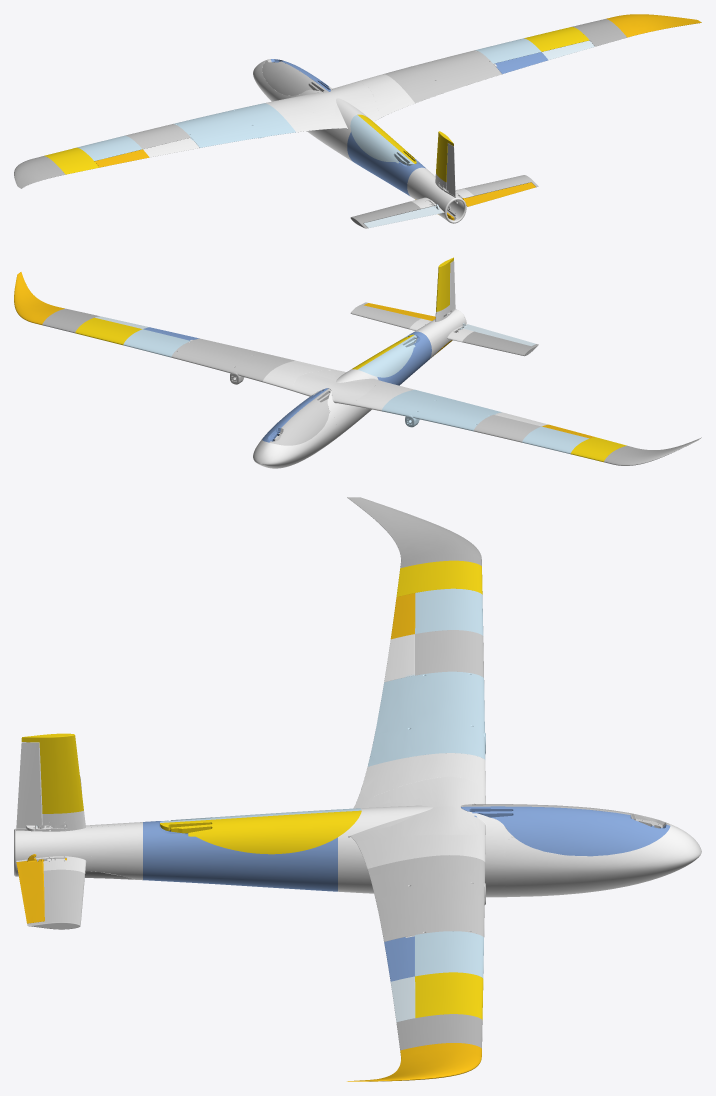
File: orca_v2.glb
3 renders of one model, top to bottom at view 1: azimuth 30°, elevation 25°; view 2: azimuth 150°, elevation 25°; view 3: azimuth 270°, elevation 25°, orthographic. The views are drawn at different scales.
Parts seen in each view (by area): view 1: wing_fuselage, port_1_2, starboard_1_2, port_4 (×2), tail_sloted_SSB (×2), starboard_4 (×2), port_3 (×2), starboard_3 (×2), aft_fuselage, mid_cover_1, front_cover2, starboard_aileron (×2) (+9 smaller); view 2: wing_fuselage, port_1_2, starboard_1_2, port_3 (×2), starboard_3 (×2), port_4 (×2), nose_fuselage, starboard_4 (×2), front_cover2, tail_sloted_SSB (×2), mid_cover_1, aft_fuselage (+6 smaller); view 3: wing_fuselage, starboard_1_2, port_1_2, aft_fuselage, nose_fuselage, front_cover1, starboard_4 (×2), tail_sloted_SSB, port_3 (×2), starboard_3 (×2), mid_cover2, port_4 (×2) (+6 smaller).
Boxes of the visible parts, x1,y1,x2,y2 form: wing_fuselage: (264, 74, 414, 161); port_1_2: (383, 50, 501, 103); starboard_1_2: (173, 103, 295, 147); port_4 (×2): (572, 14, 701, 46); tail_sloted_SSB (×2): (407, 167, 473, 223); starboard_4 (×2): (14, 147, 99, 188); port_3 (×2): (475, 27, 589, 63); starboard_3 (×2): (77, 124, 190, 161); aft_fuselage: (347, 132, 425, 196); mid_cover_1: (350, 115, 414, 165); front_cover2: (262, 59, 328, 95); starboard_aileron (×2): (95, 138, 199, 167); wing_fuselage: (262, 360, 414, 442); port_1_2: (171, 338, 295, 384); starboard_1_2: (381, 389, 501, 431); port_3 (×2): (75, 317, 190, 357); starboard_3 (×2): (473, 414, 589, 454); port_4 (×2): (14, 272, 99, 333); nose_fuselage: (253, 407, 336, 468); starboard_4 (×2): (570, 437, 701, 465); front_cover2: (270, 388, 332, 445); tail_sloted_SSB (×2): (409, 305, 473, 359); mid_cover_1: (357, 335, 416, 377); aft_fuselage: (377, 331, 431, 385); wing_fuselage: (338, 753, 505, 897); starboard_1_2: (367, 671, 485, 766); port_1_2: (367, 855, 485, 941); aft_fuselage: (143, 821, 337, 891); nose_fuselage: (505, 823, 701, 897); front_cover1: (461, 806, 670, 856); starboard_4 (×2): (347, 497, 482, 596); tail_sloted_SSB: (14, 810, 142, 880); port_3 (×2): (415, 931, 483, 1019); starboard_3 (×2): (415, 588, 483, 677); mid_cover2: (160, 810, 361, 854); port_4 (×2): (347, 1014, 482, 1081).
Size of the model in its own units: 2.2 by 0.2817 by 1.09.
